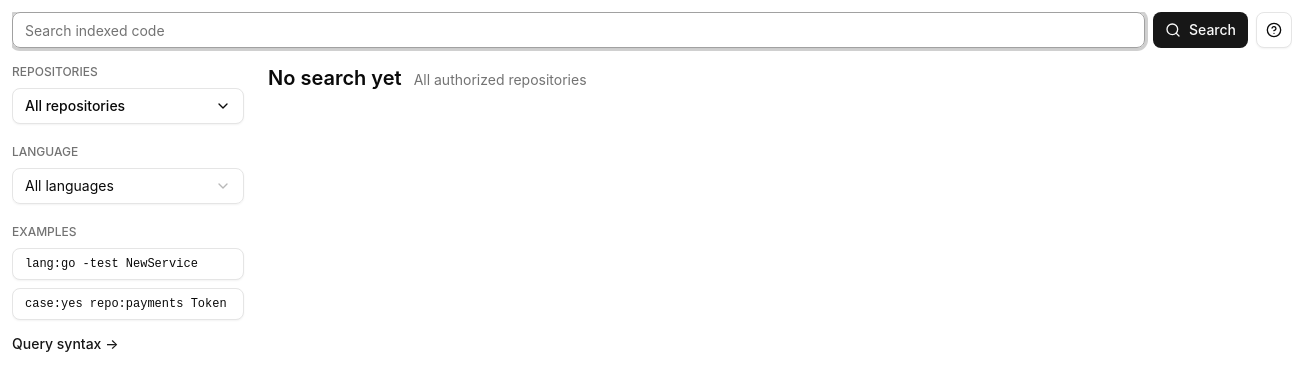
Test: search state › aborts the previous search when a new one is submitted
The image size is (1304, 369).
Type "one" into the search field named "Search code" at [578, 30], box [12,12,1145,48]
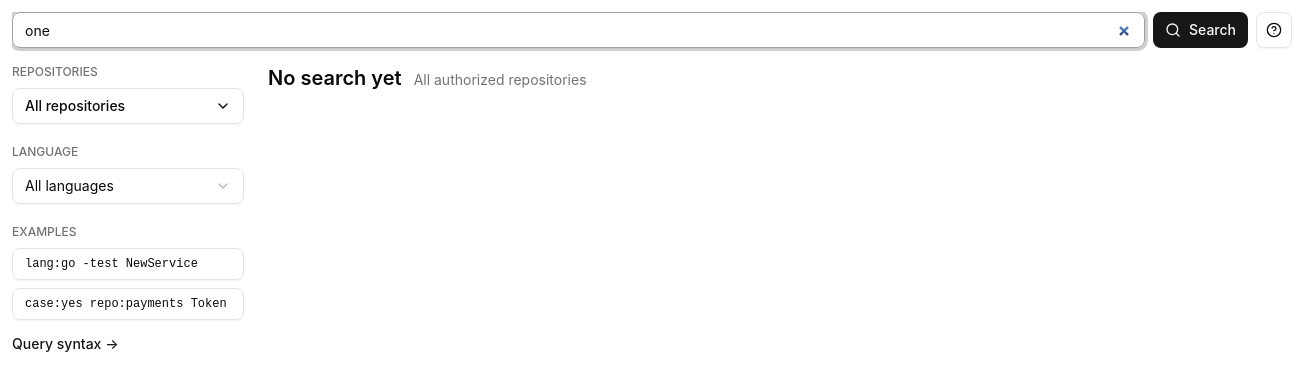
Click the button "Search" at [1200, 30], box [1153,12,1248,48]
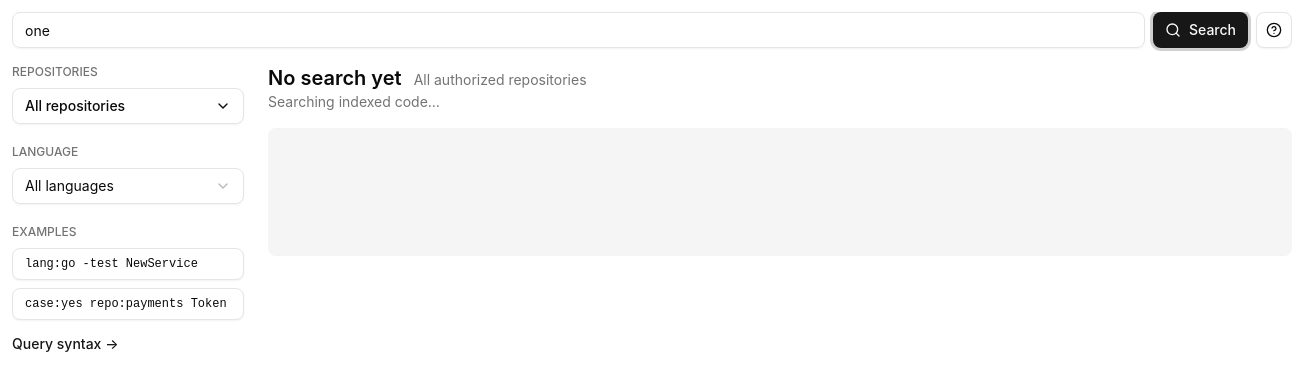
Type " two" into the search field named "Search code" at [578, 30], box [12,12,1145,48]
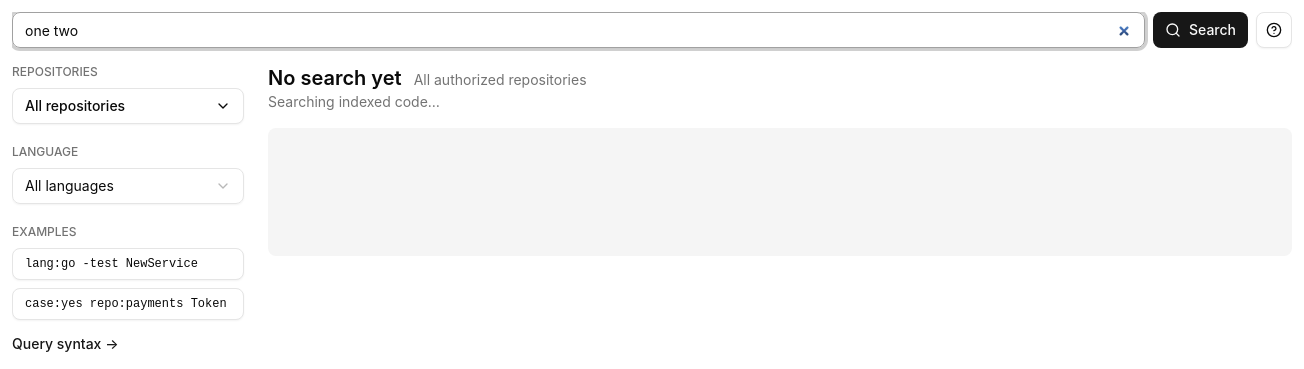
Click the button "Search" at [1200, 30], box [1153,12,1248,48]
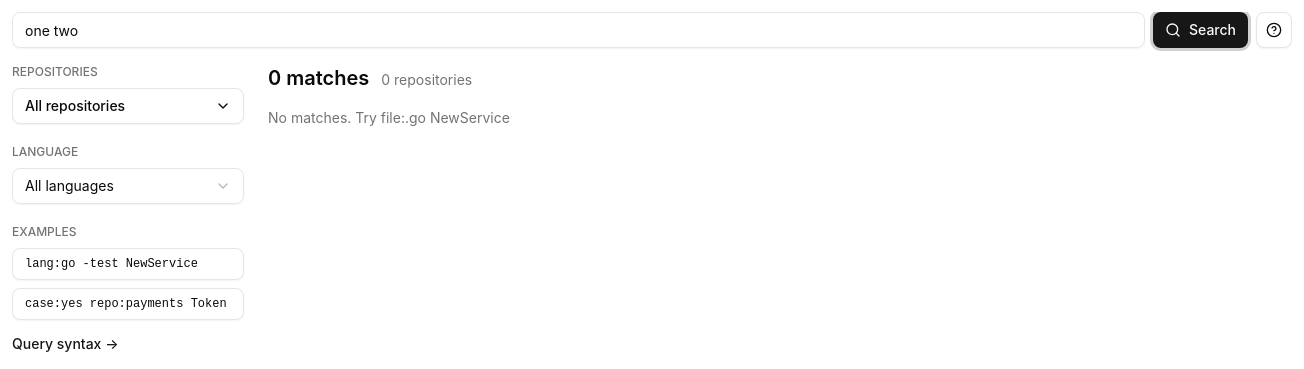
Now the text "No matches. Try file:.go NewService" is shown, box [268,109,510,126]
